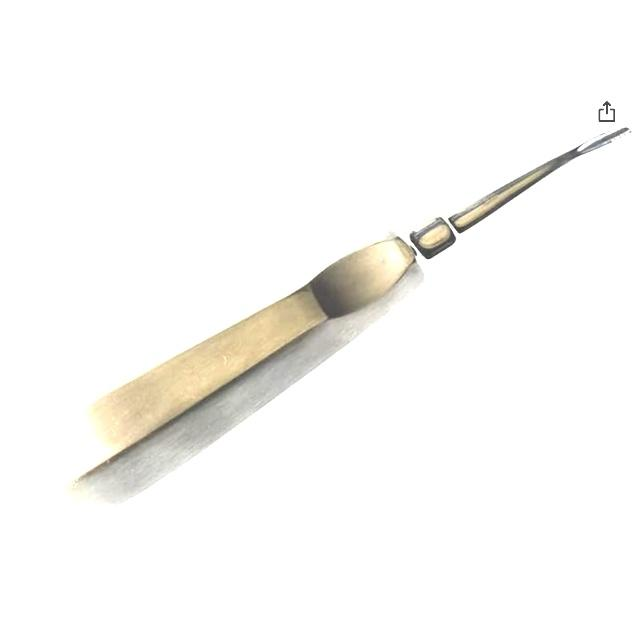botador: (47, 127, 629, 512)
